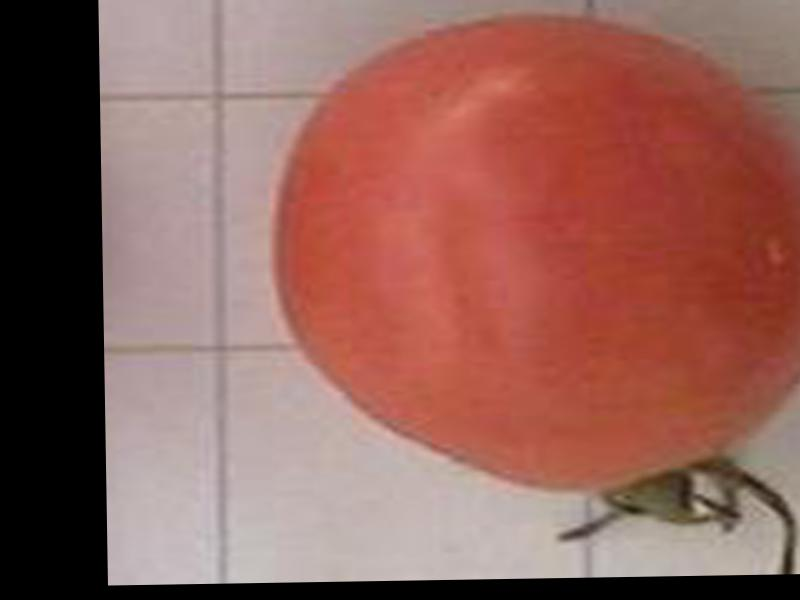Tomato: (271, 10, 800, 497)
